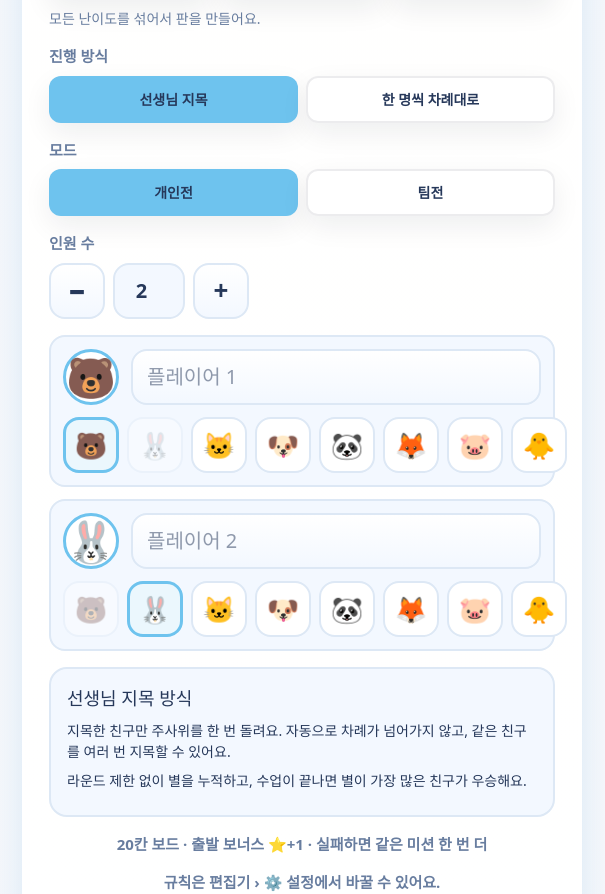
Test case: SetupView — animals (D-24, SETUP-07) › picking 🐱 in row 1 frees 곰 for row 2 (row 2 keeps 🐰)
The image size is (605, 894).
(page scrolled)
Click the button named "고양이" at (219, 445), box top-left (191, 417), bottom-right (247, 473)
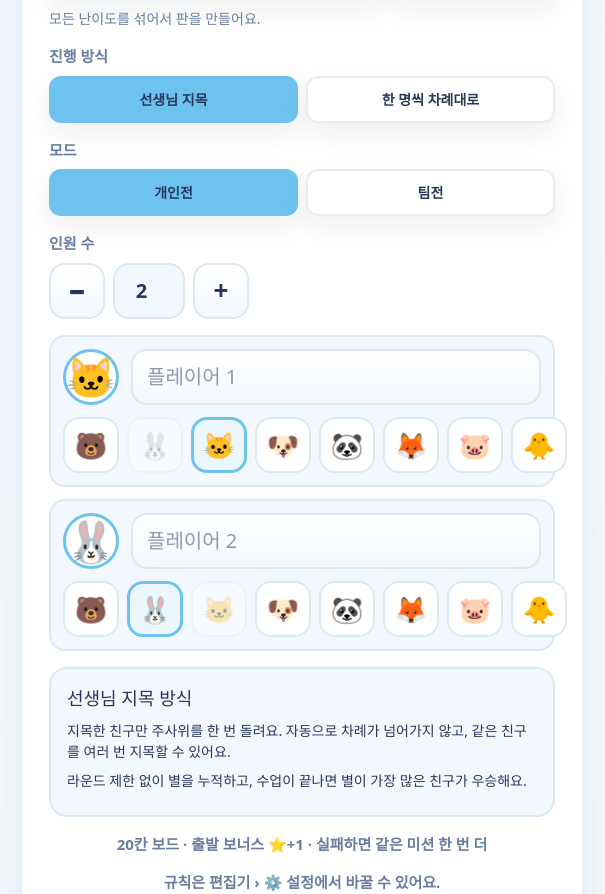
Now the button named "곰" is enabled, box top-left (63, 581), bottom-right (119, 637)
Now the button named "고양이 — 다른 친구가 골랐어요" is disabled, box top-left (191, 581), bottom-right (247, 637)
